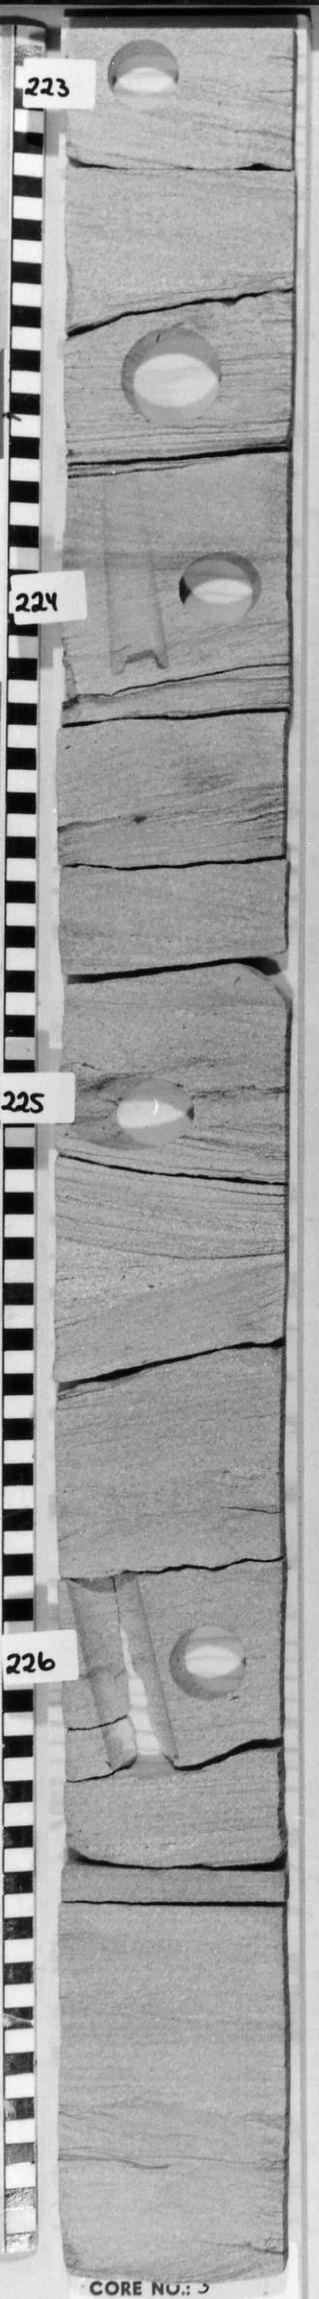hplug: (67, 1075, 205, 1158), (102, 34, 196, 119), (176, 548, 271, 629), (165, 1622, 252, 1702)
scal: (113, 323, 230, 433)
vplug: (66, 1575, 181, 1773), (92, 471, 176, 677)
